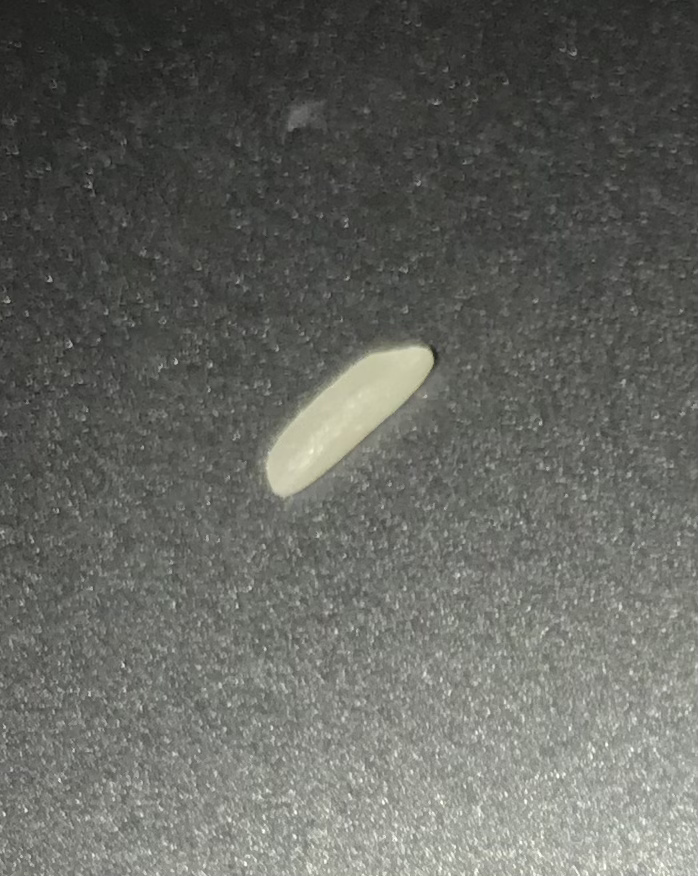Gao Tam Thom: (253, 333, 461, 527)
